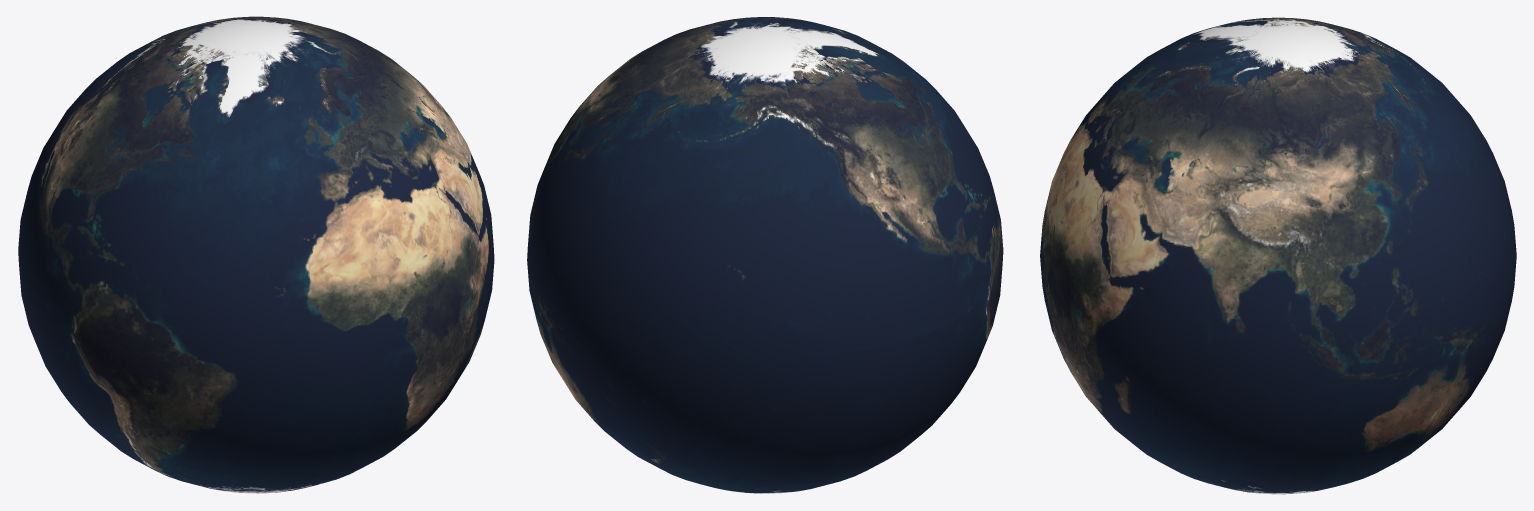
Rendered from Tierra.glb.
3 views of the same model, side by side, from view 1: azimuth 30°, elevation 25°; view 2: azimuth 150°, elevation 25°; view 3: azimuth 270°, elevation 25° (orthographic).
Visible parts, largest first — view 1: Earth; view 2: Earth; view 3: Earth.
Boxes of the visible parts, bbox=[...] form: Earth: bbox=[18, 16, 494, 493]; Earth: bbox=[527, 17, 1003, 493]; Earth: bbox=[1040, 17, 1516, 494].
Bounding box in the file's own units: 2.05 × 2.05 × 2.05.
Materials: 2 (2 with a texture image).
